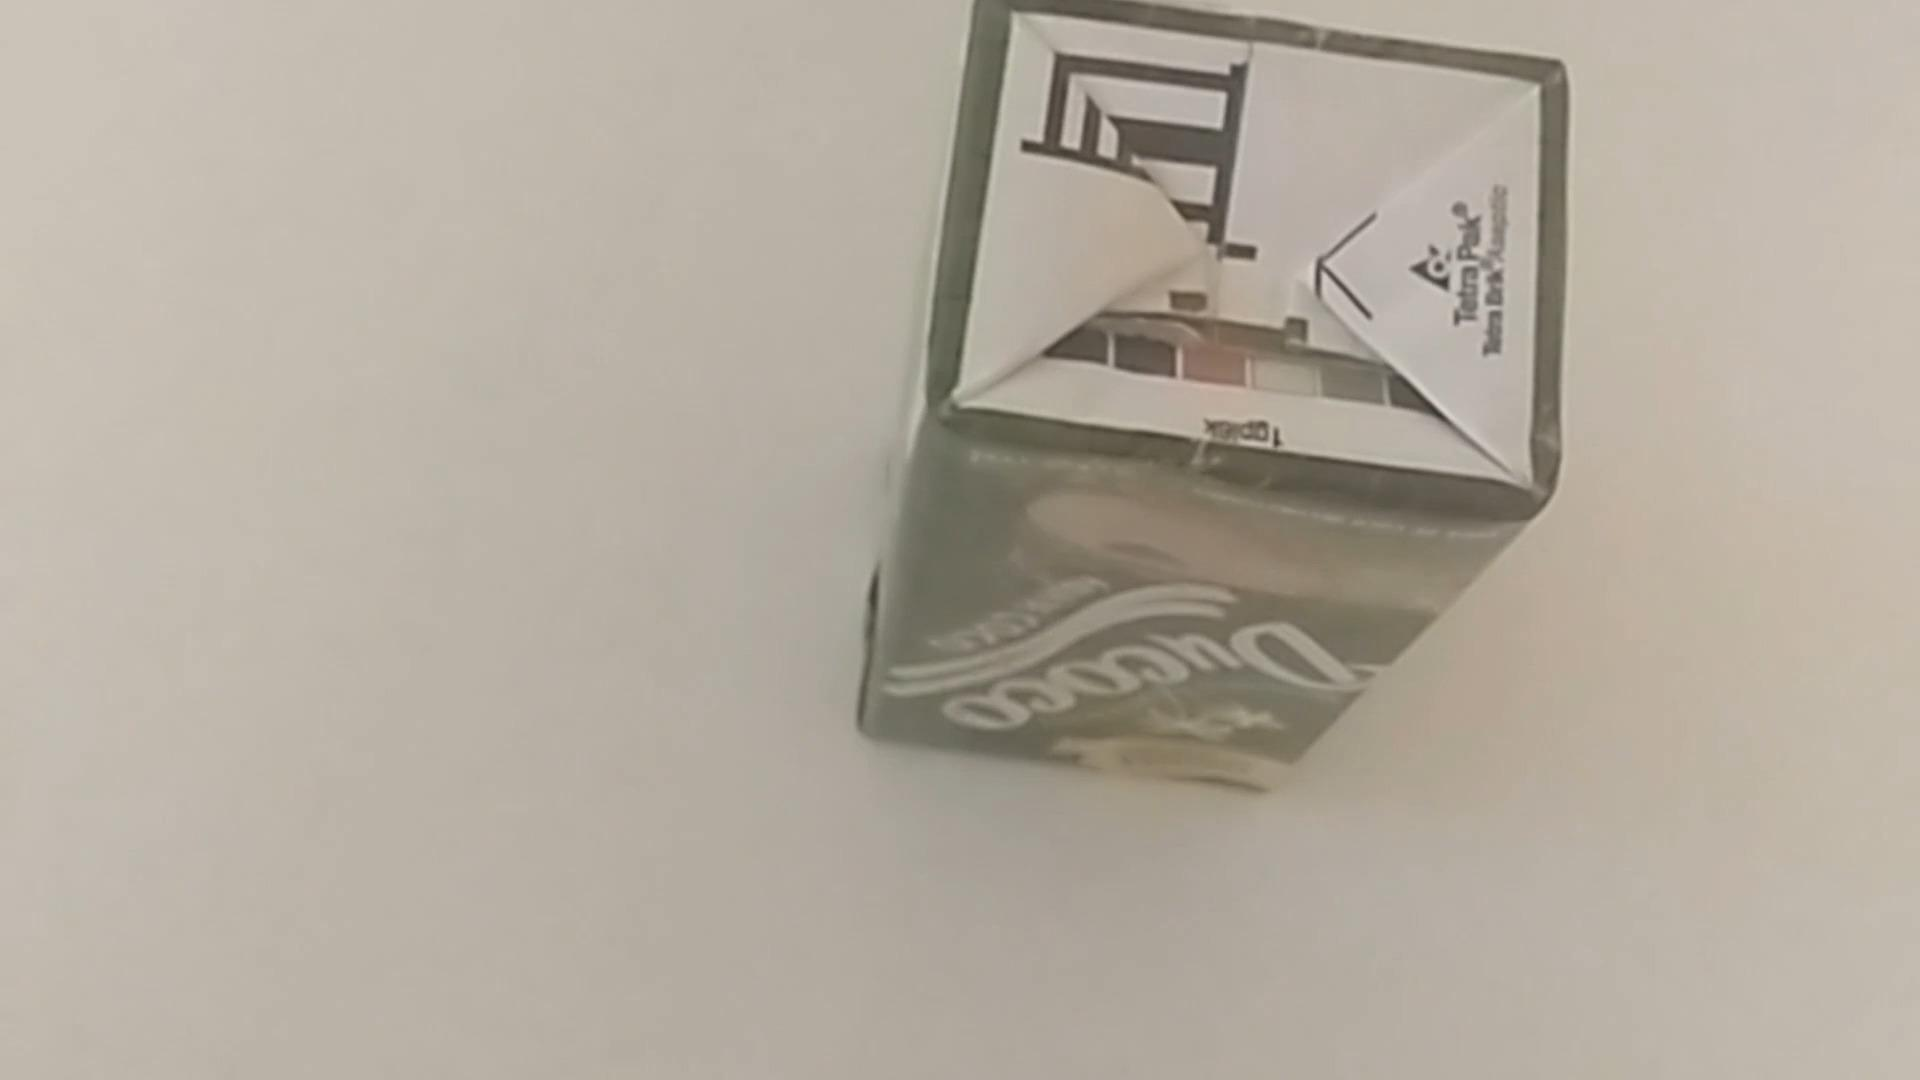coco: (852, 4, 1561, 793)
